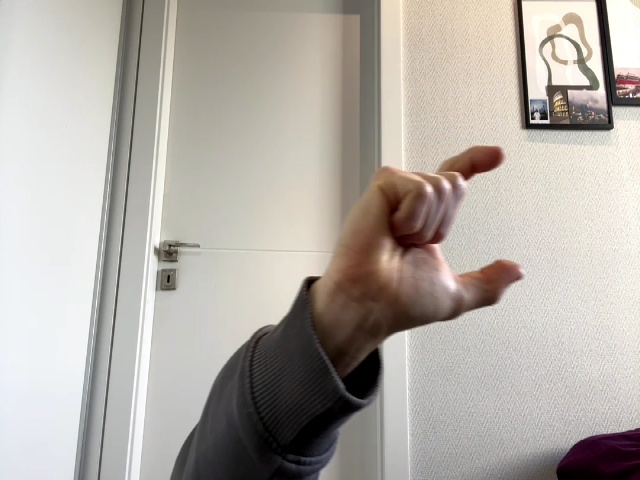C: (326, 146, 525, 340)
